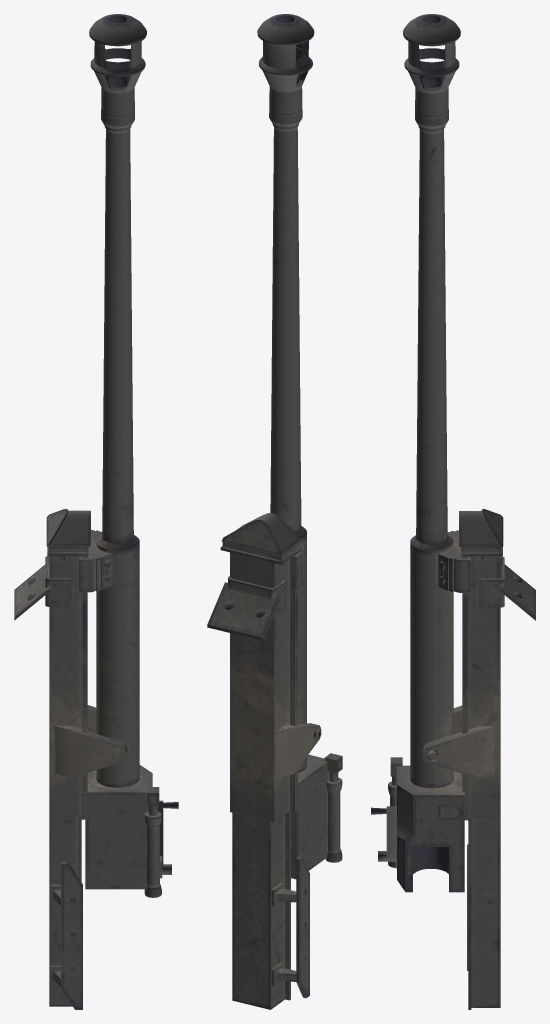
The model's file is Gun_03.glb.
3 renders of one model, left to right at view 1: azimuth 90°, elevation 25°; view 2: azimuth 150°, elevation 25°; view 3: azimuth 270°, elevation 25°, orthographic.
Parts seen in each view (by area): view 1: set_0_group_0; view 2: set_0_group_0; view 3: set_0_group_0.
Part boxes in pixels (<box>): set_0_group_0: <box>14,14,178,1009</box>; set_0_group_0: <box>207,14,342,1009</box>; set_0_group_0: <box>371,14,535,1009</box>.
Bounding box in the file's own units: 0.3717 × 4.39 × 0.6704.
1 material, 1 textured.
